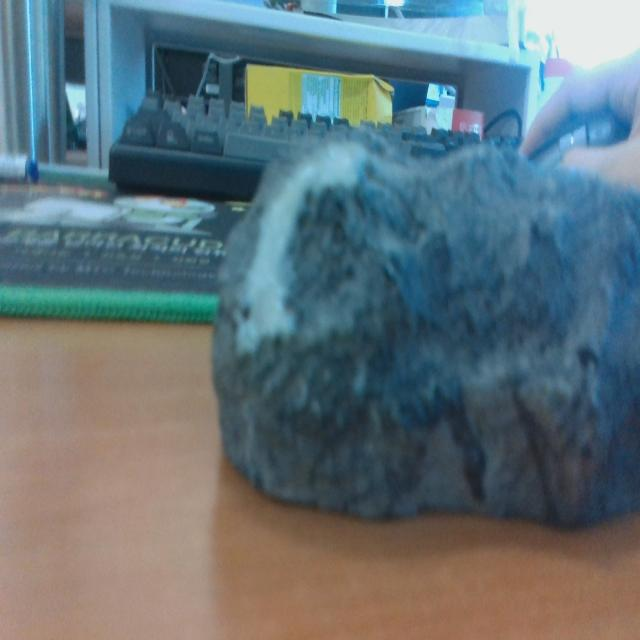stone: (209, 136, 640, 534)
